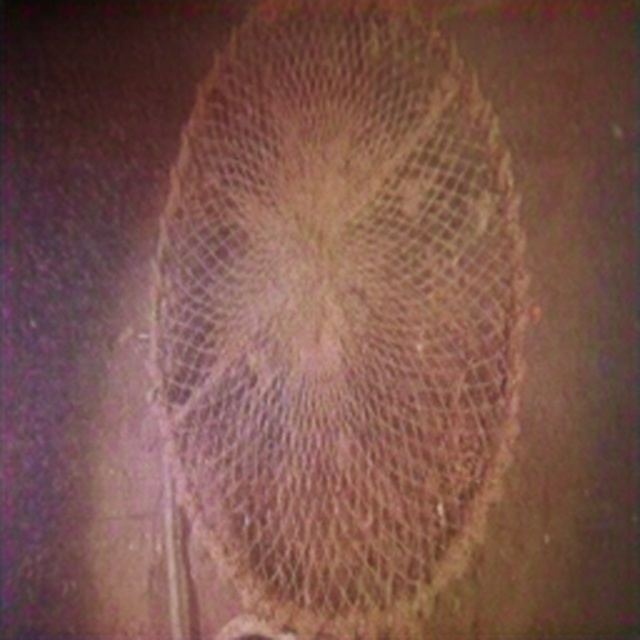mine: (149, 0, 526, 632)
